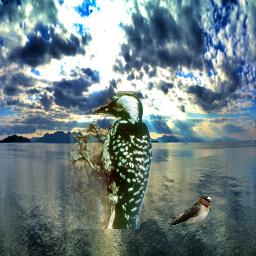Swallow: (168, 194, 214, 227)
Woodpecker: (70, 91, 152, 229)
